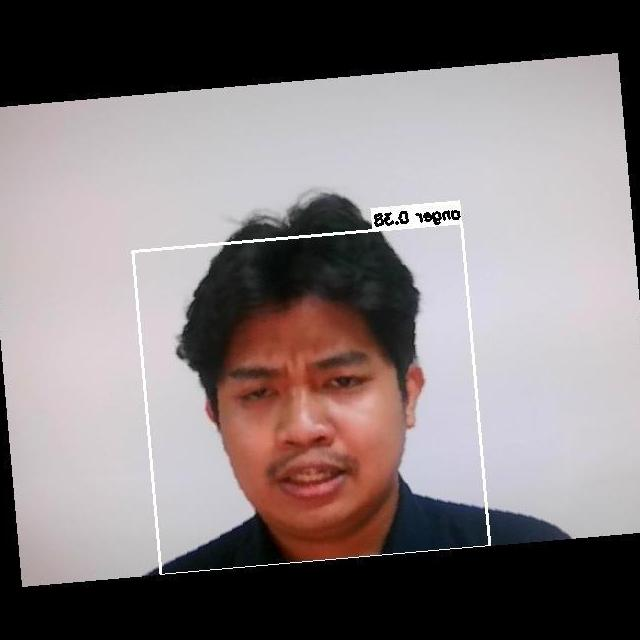Sad: (203, 332, 419, 523)
